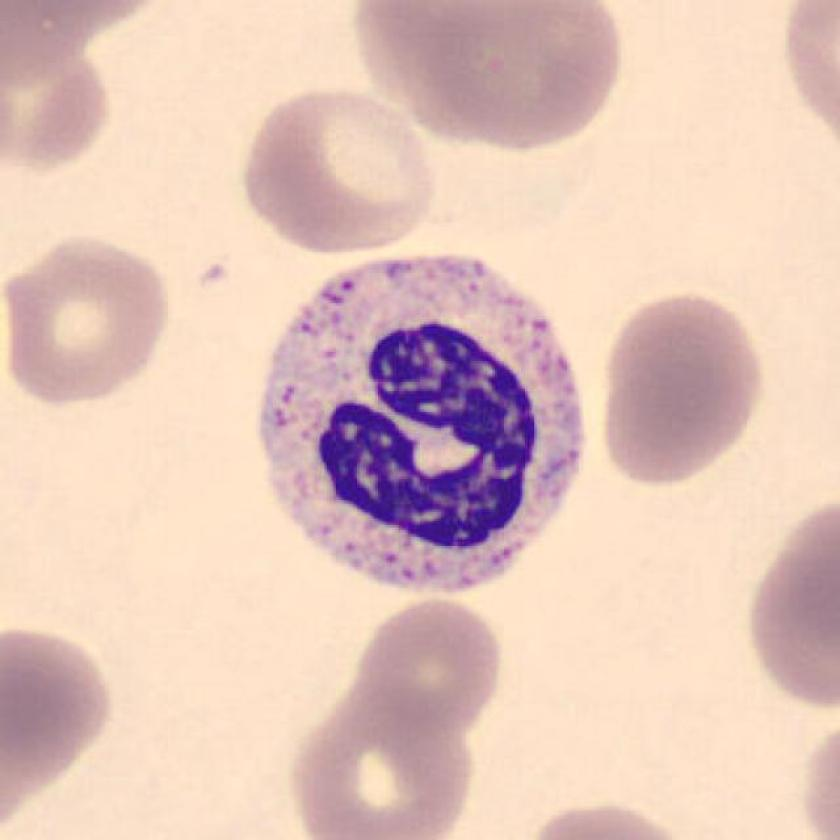neutrophil: (250, 245, 593, 598)
